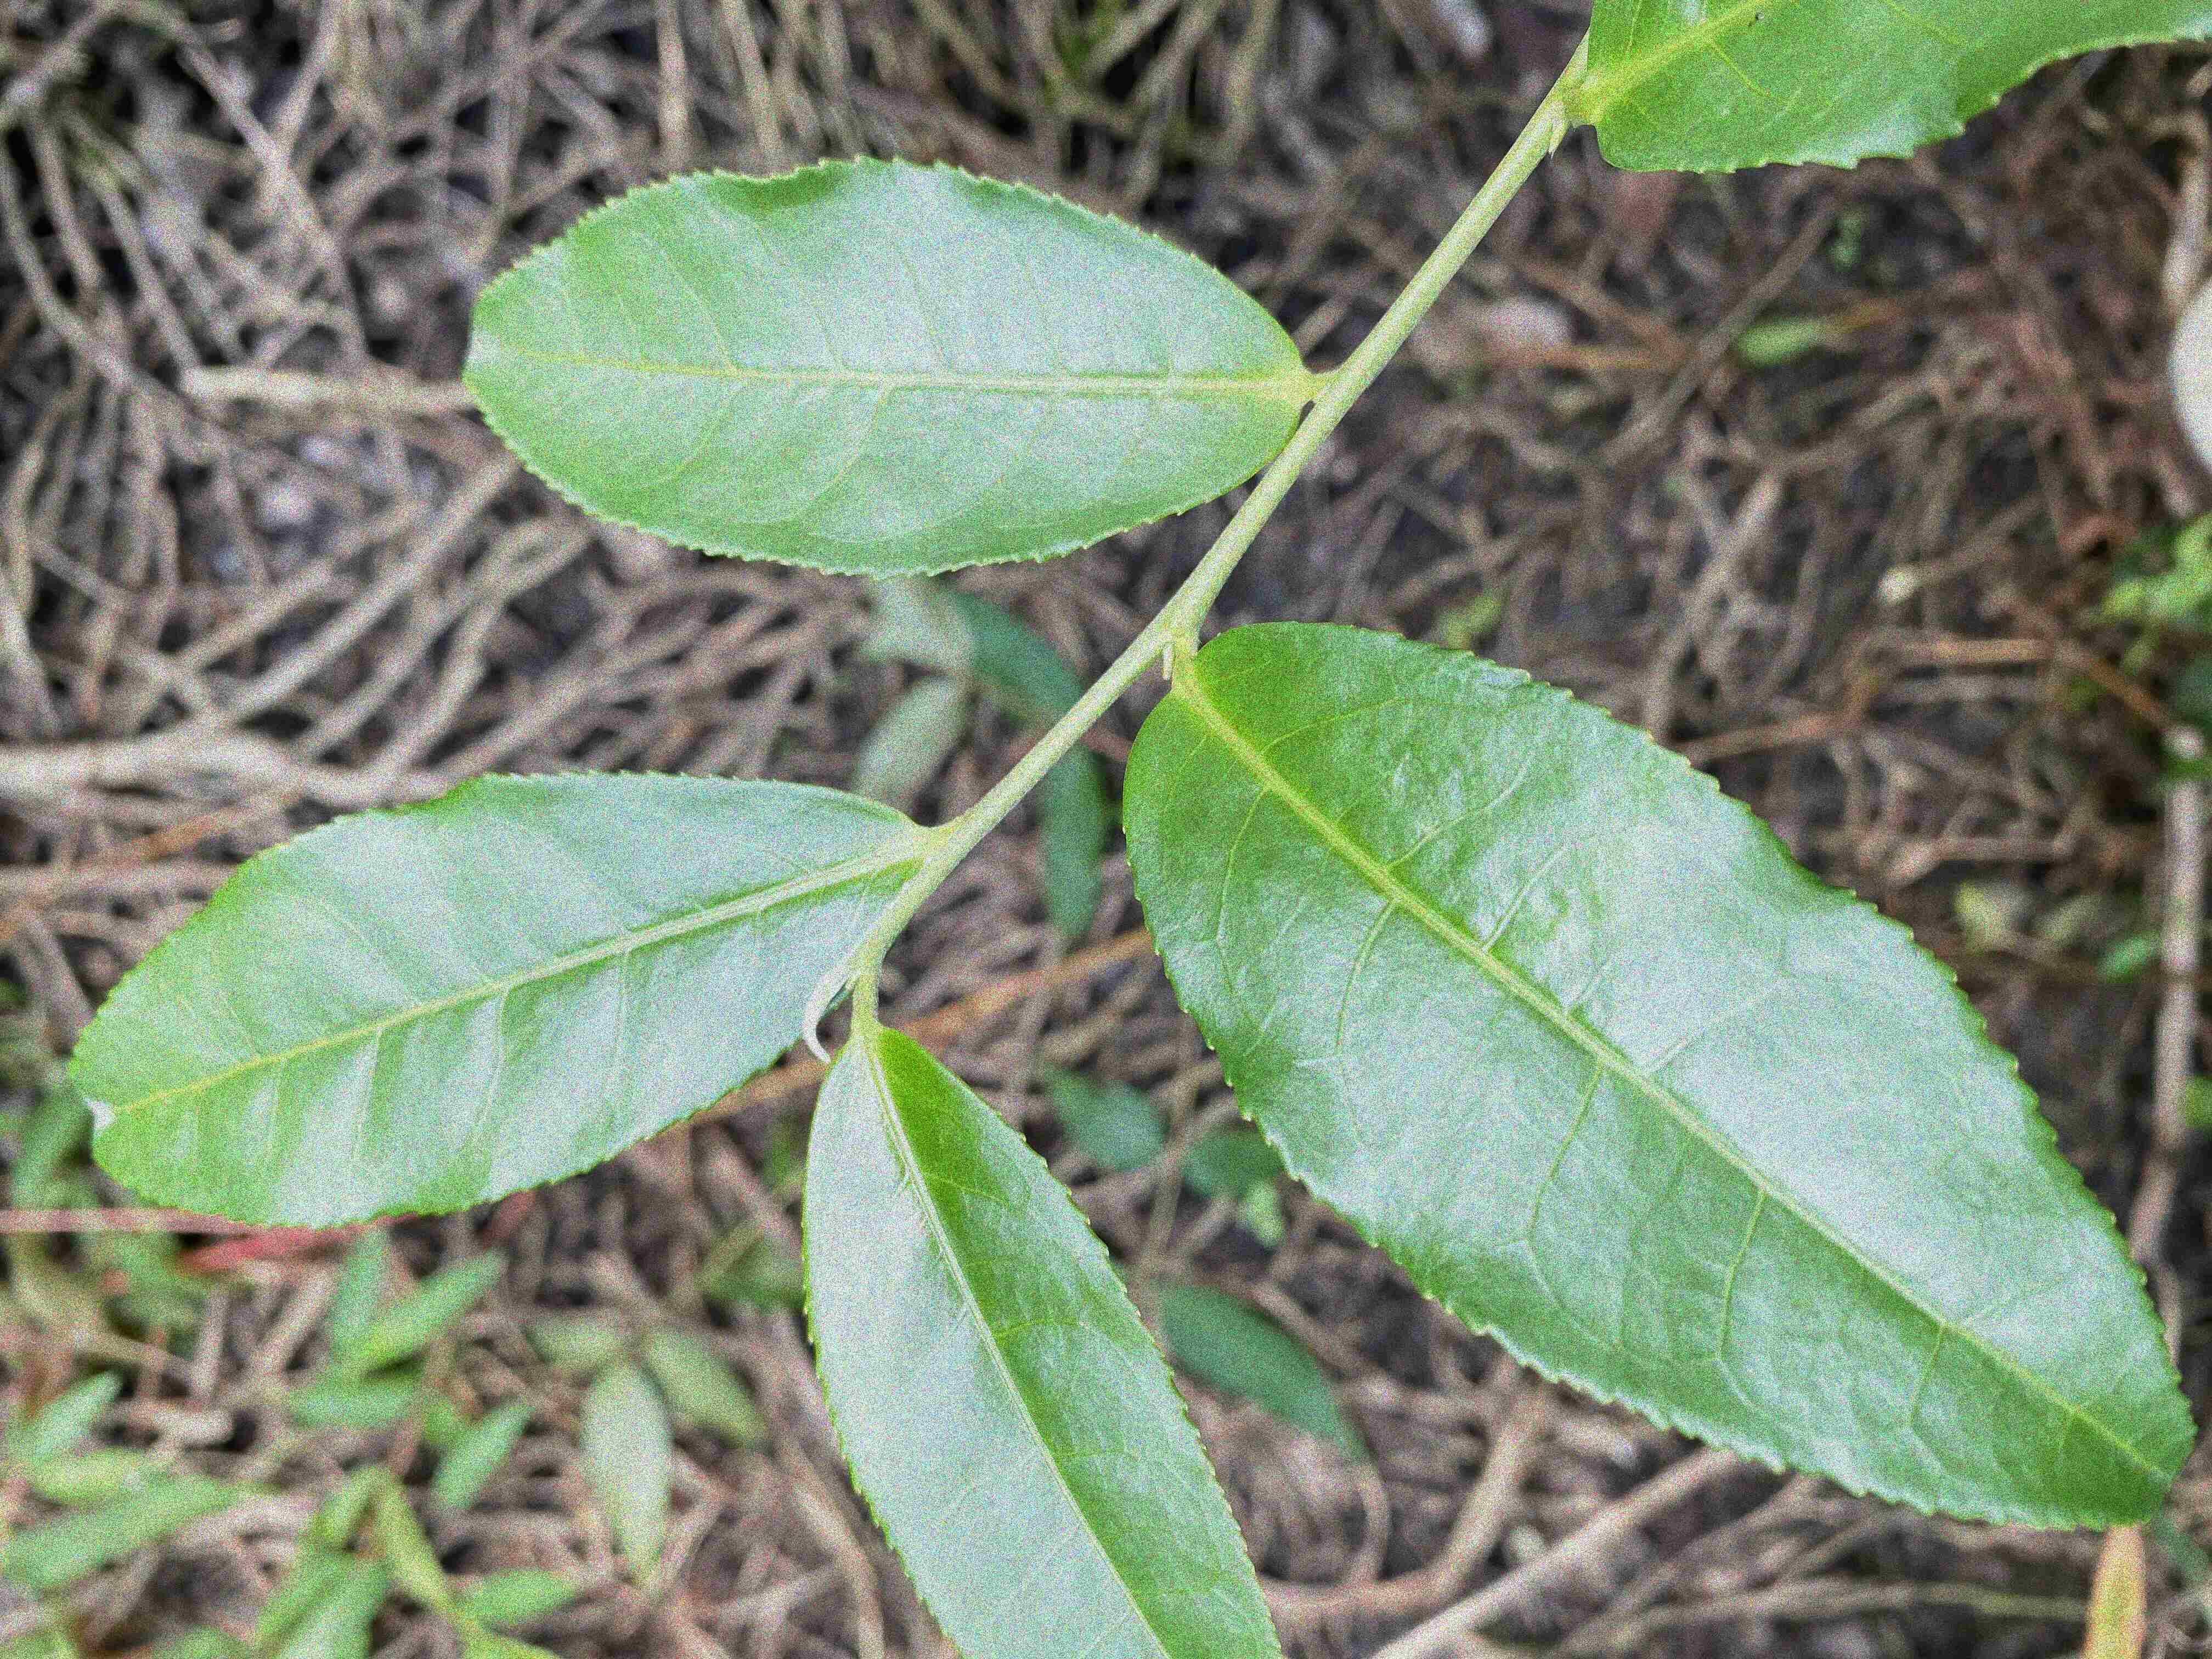healthy: (1120, 612, 2198, 1535), (64, 765, 918, 1234), (460, 150, 1313, 579), (796, 1019, 1282, 1656)
